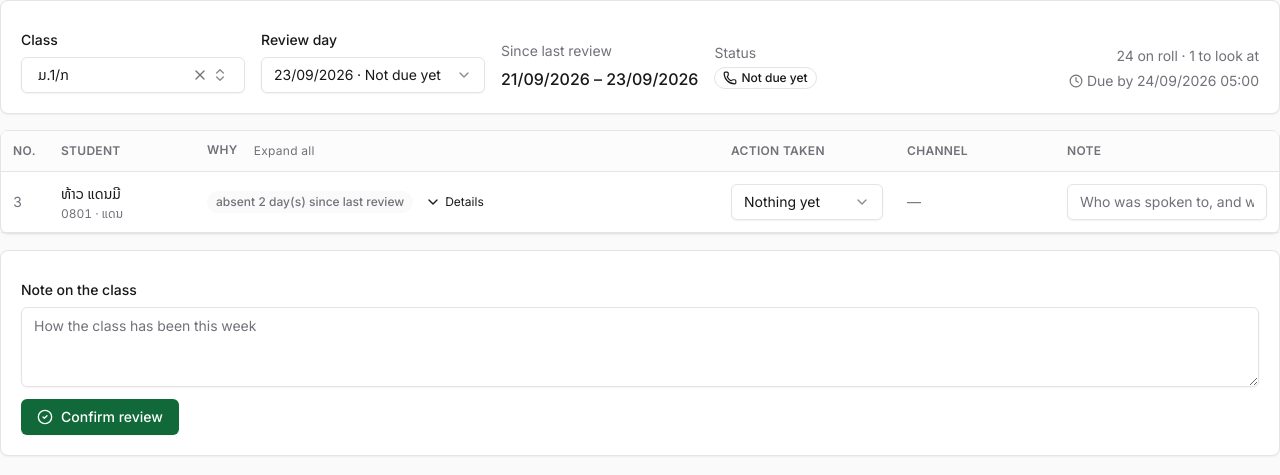
Test case: the review sheet › refuses to send a guardian contact with no channel, and says why
Click the dropdown named "action taken — ທ້າວ ແດນມີ": coordinates (807, 202) left=731, top=184, right=883, bottom=220
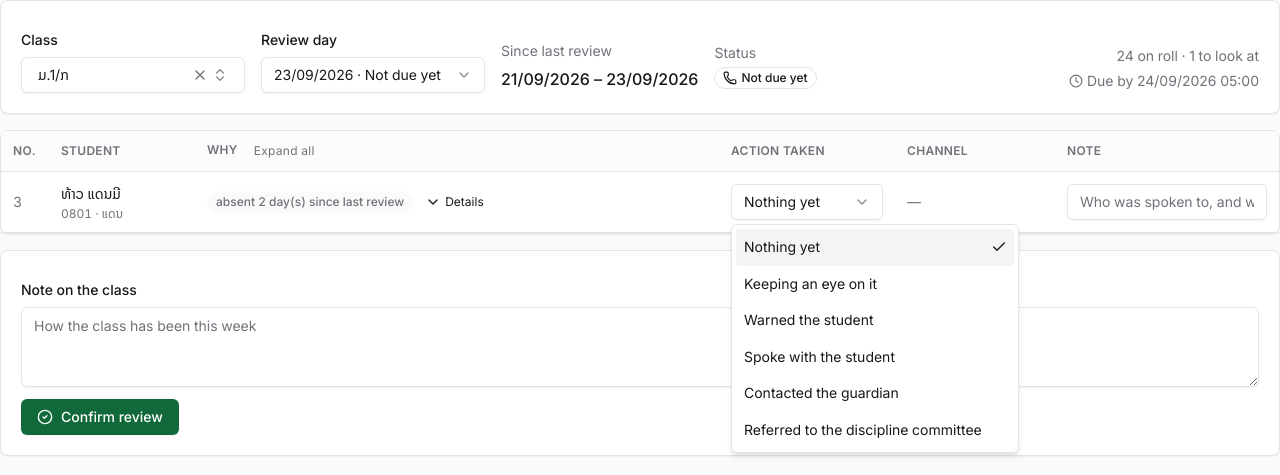
Click the option "Contacted the guardian": coordinates (821, 392) left=744, top=381, right=899, bottom=404
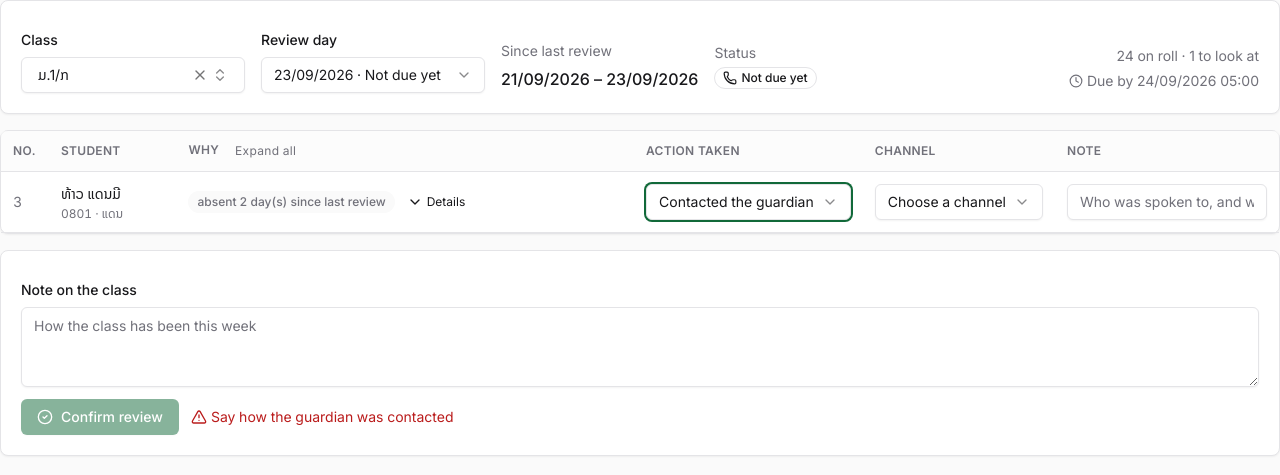
Expected: the text "Say how the guardian was contacted" is shown, left=191, top=407, right=454, bottom=427
Expected: the button "Confirm review" is disabled, left=21, top=399, right=179, bottom=435
